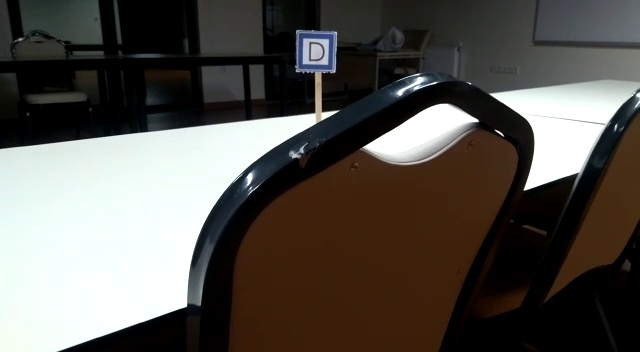durak: (295, 32, 335, 72)
